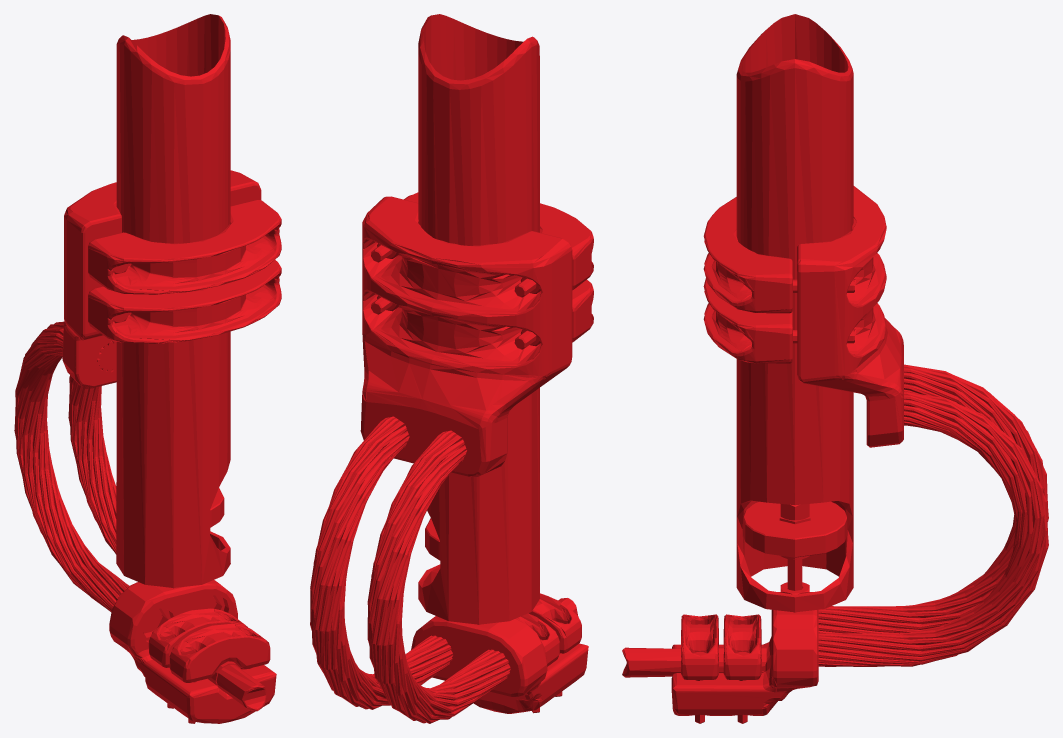
The model's file is flexible_90_tubo_pin2.gltf.
3 renders of one model, left to right at view 1: azimuth 30°, elevation 25°; view 2: azimuth 150°, elevation 25°; view 3: azimuth 270°, elevation 25°, orthographic. The views are drawn at different scales.
Visible parts, largest first — view 1: Gt7Sj3Sa; view 2: Gt7Sj3Sa; view 3: Gt7Sj3Sa.
Part boxes in pixels (<box>): Gt7Sj3Sa: <box>14,14,281,723</box>; Gt7Sj3Sa: <box>310,14,593,723</box>; Gt7Sj3Sa: <box>622,14,1048,723</box>.
Bounding box in the file's own units: 0.5506 × 1.92 × 1.11.
